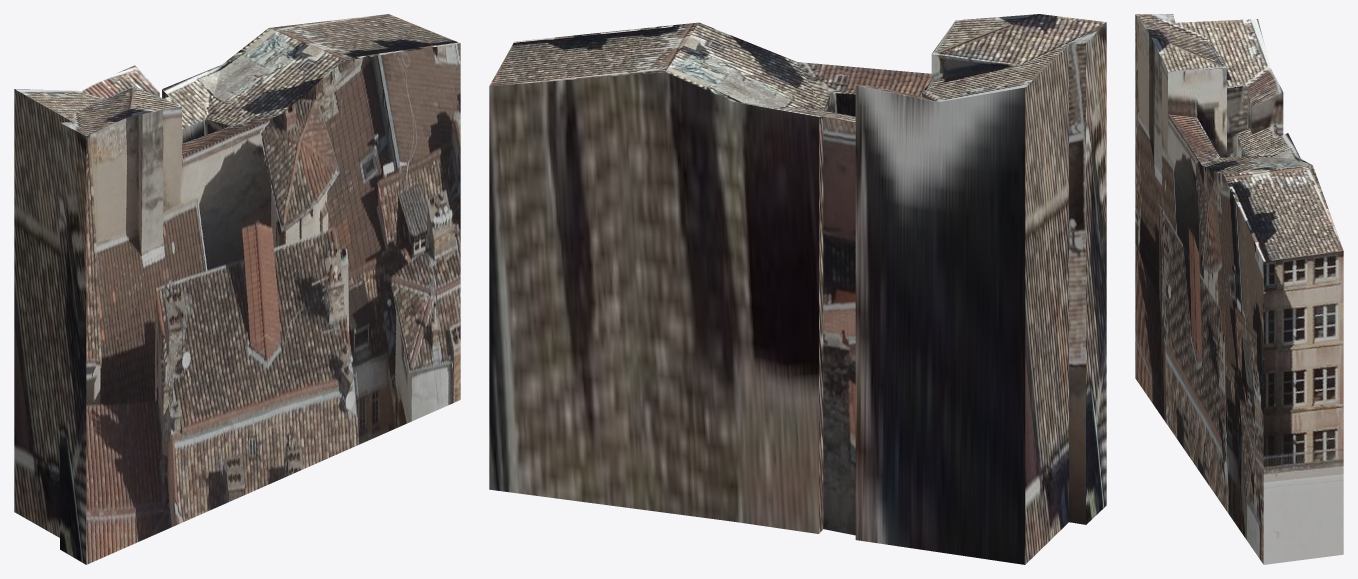
The picture shows the model from 3 angles, left to right: view 1: azimuth 30°, elevation 25°; view 2: azimuth 150°, elevation 25°; view 3: azimuth 270°, elevation 25°; orthographic projection. The views are drawn at different scales.
Visible parts, largest first — view 1: Z_UP; view 2: Z_UP; view 3: Z_UP.
Boxes of the visible parts, x1=… form: Z_UP: x1=14, y1=14, x2=460, y2=564; Z_UP: x1=489, y1=14, x2=1106, y2=564; Z_UP: x1=1135, y1=14, x2=1343, y2=564.
Size of the model in its own units: 24.71 by 22.35 by 11.56.
2 materials, 1 textured.
